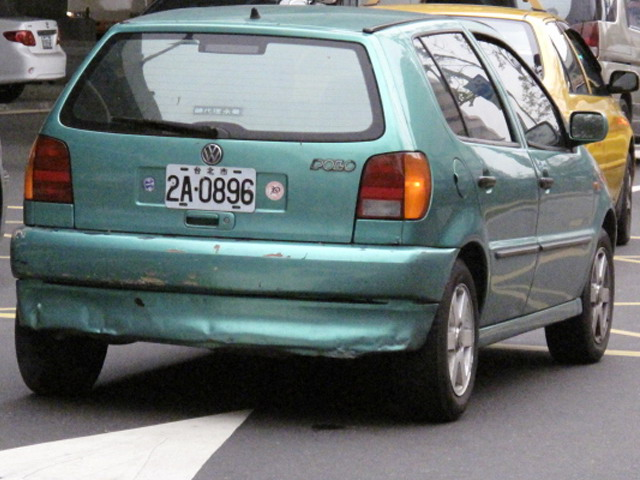plate: (164, 162, 258, 217)
